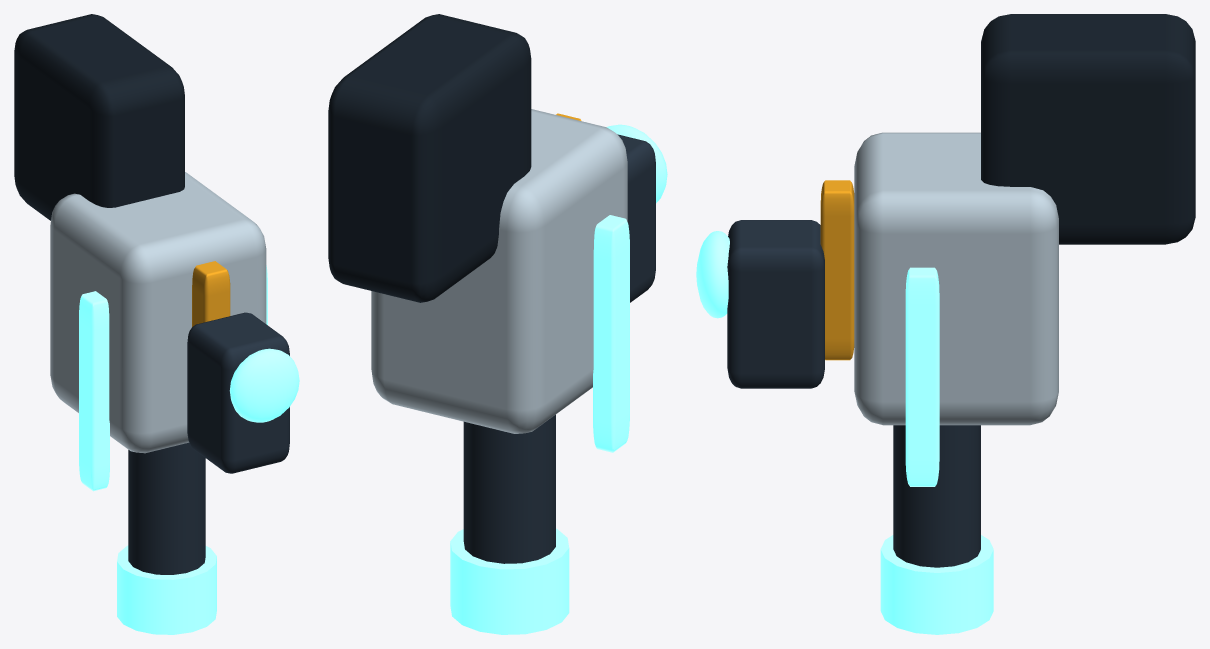
The model's file is pistol-4.glb.
The picture shows the model from 3 angles, left to right: view 1: azimuth 30°, elevation 25°; view 2: azimuth 150°, elevation 25°; view 3: azimuth 270°, elevation 25°; orthographic projection. The views are drawn at different scales.
Bounding box in the file's own units: 0.2491 × 0.6943 × 0.5427.
